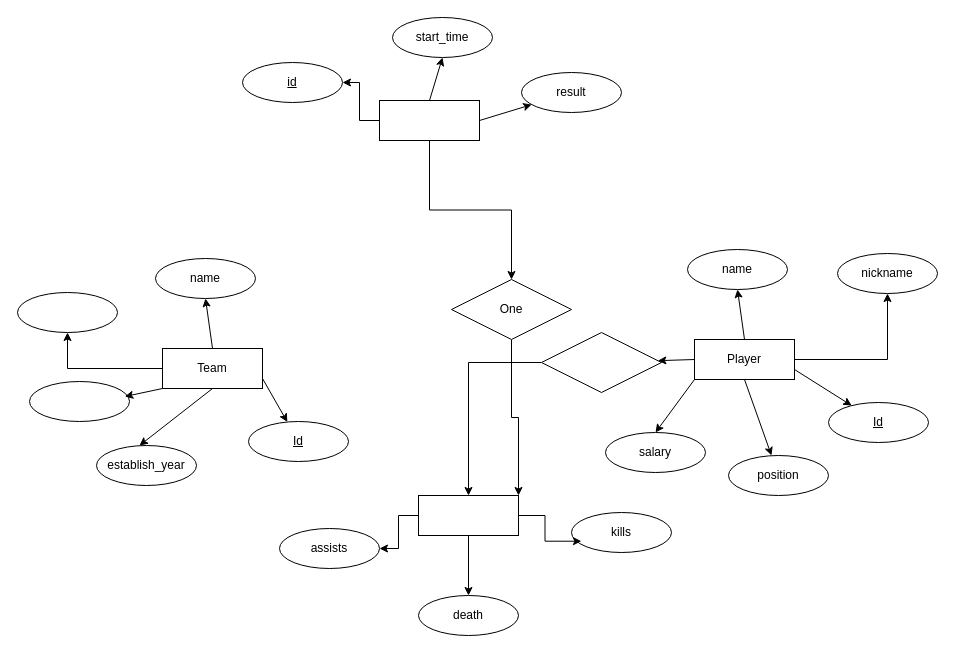
This 955x653 diagram has some shape labels left out. The shapes that lost their labels are listed below. From the top down, each one's box as (x1, y1, x2, y2) in pixels, then its label:
(378, 100, 480, 140): match
(16, 292, 118, 332): owner
(540, 332, 662, 392): Many
(28, 380, 130, 422): nation
(418, 494, 518, 536): Match_statistic
